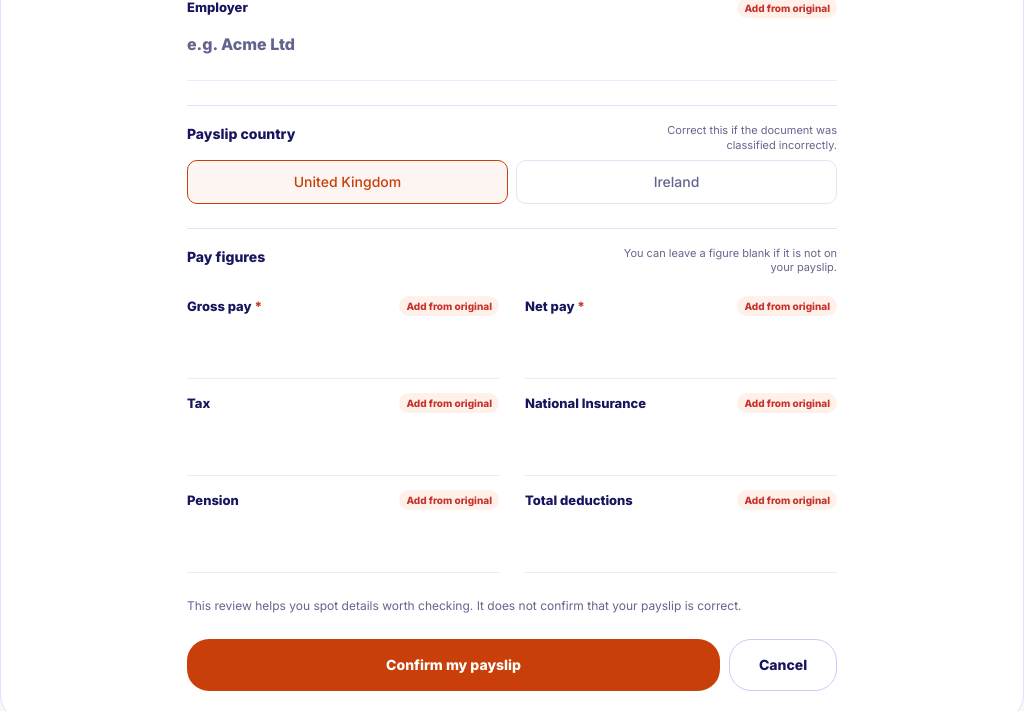
Test: PayslipUpload processing failure › shows inline required-field errors and focuses the first missing review field
(page scrolled)
Click the button "Confirm my payslip": (454,665) x1=187 y1=639 x2=720 y2=691
(page scrolled)
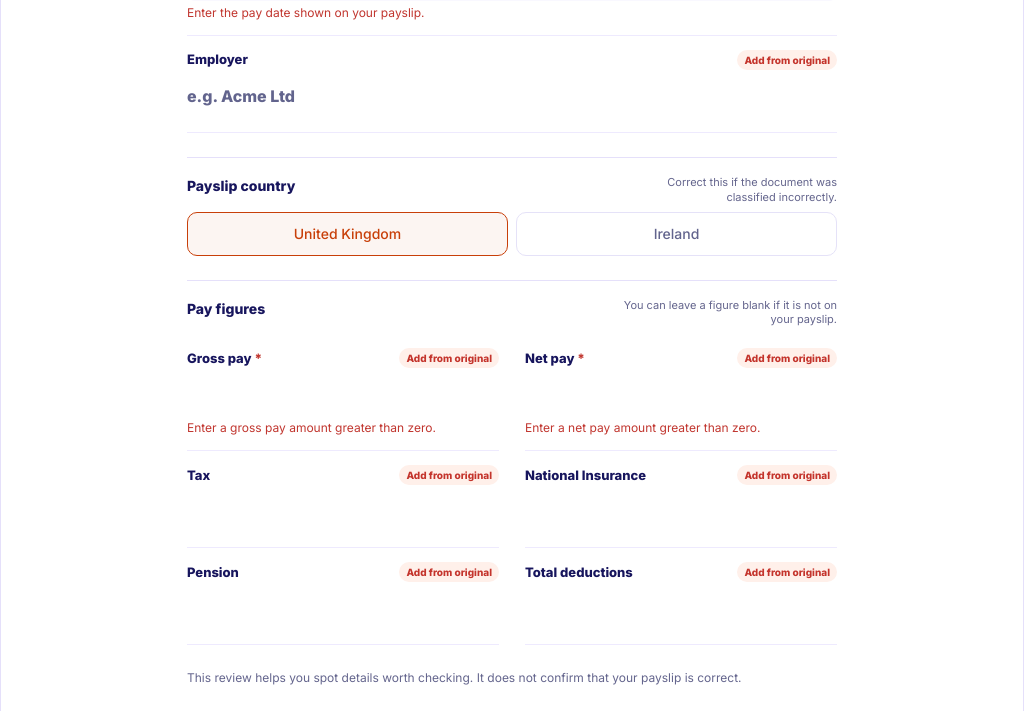
Now the text "Enter the pay date shown on your payslip." is shown, box x1=187 y1=5 x2=425 y2=20
Now the text "Enter a gross pay amount greater than zero." is shown, box x1=187 y1=420 x2=436 y2=435
Now the text "Enter a net pay amount greater than zero." is shown, box x1=525 y1=420 x2=760 y2=435
